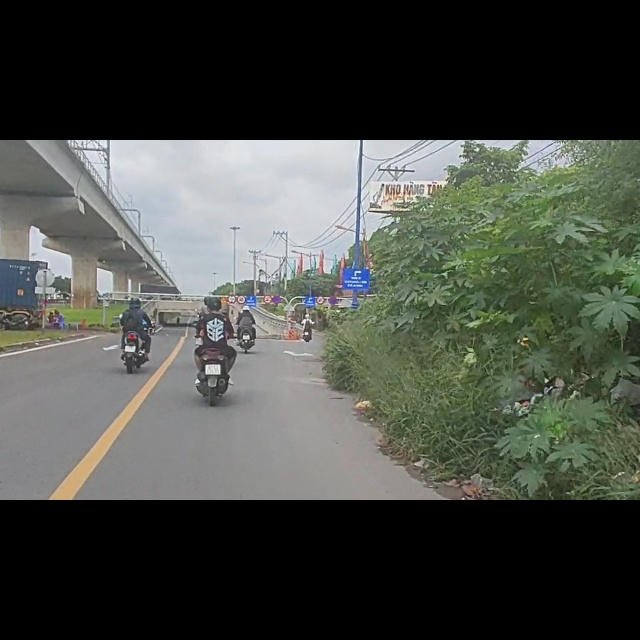bien_nguy_hiem: (227, 274, 237, 292), (329, 276, 338, 293), (316, 276, 325, 292), (237, 275, 245, 292), (273, 276, 281, 293), (263, 275, 272, 290)
